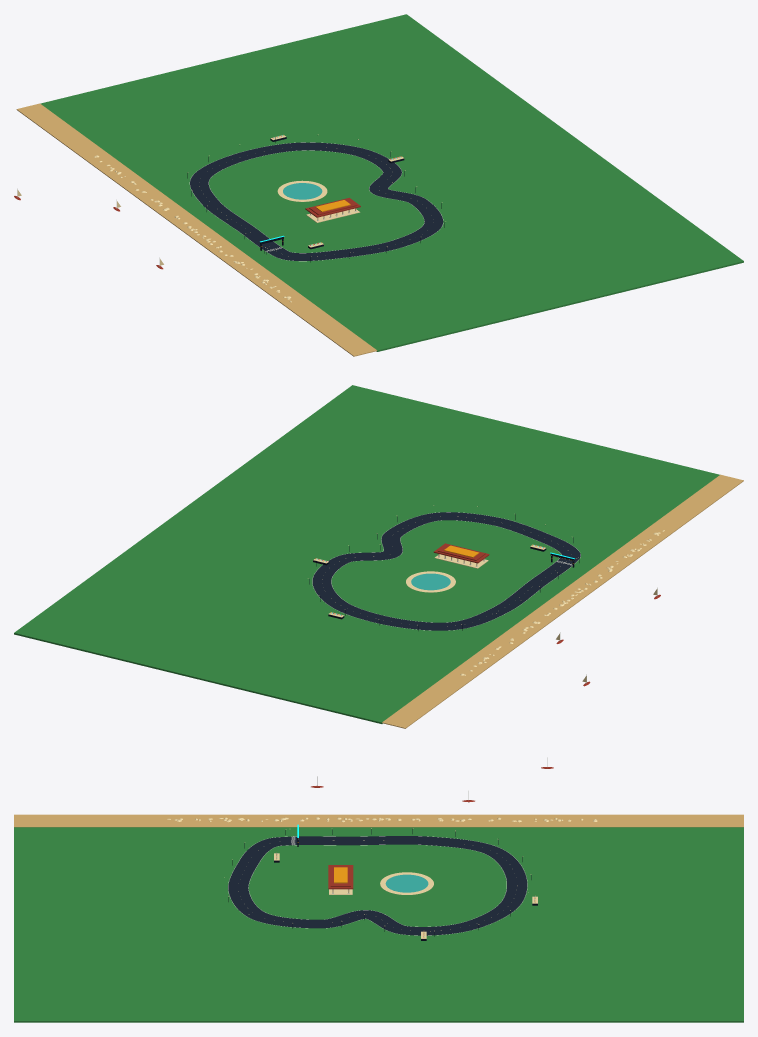
The model's file is world.glb.
3 views of the same model, one above another, from view 1: azimuth 30°, elevation 25°; view 2: azimuth 150°, elevation 25°; view 3: azimuth 270°, elevation 25° (orthographic). The views are drawn at different scales.
Visible parts, largest first — view 1: GroundPreserved, RoadPreserved, ArchitecturePreserved; view 2: GroundPreserved, RoadPreserved, ArchitecturePreserved; view 3: GroundPreserved, RoadPreserved, ArchitecturePreserved.
Boxes of the visible parts, x1,y1,x2,y2 form: GroundPreserved: [16, 14, 743, 356]; RoadPreserved: [190, 142, 443, 260]; ArchitecturePreserved: [14, 134, 445, 302]; GroundPreserved: [14, 385, 743, 728]; RoadPreserved: [312, 512, 580, 630]; ArchitecturePreserved: [308, 505, 664, 686]; GroundPreserved: [14, 814, 743, 1022]; RoadPreserved: [228, 836, 527, 935]; ArchitecturePreserved: [167, 757, 597, 940].
Size of the model in its own units: 536 by 11.87 by 650.
